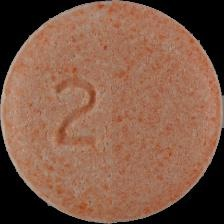64380-734: (0, 0, 224, 224)
